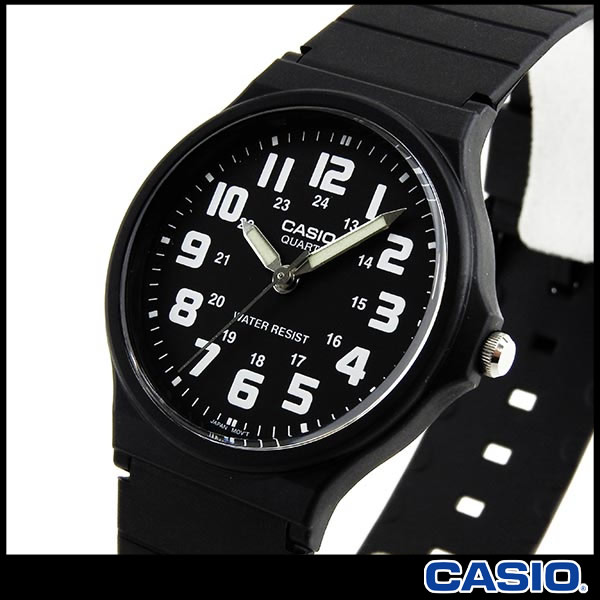clock: (103, 86, 480, 474)
